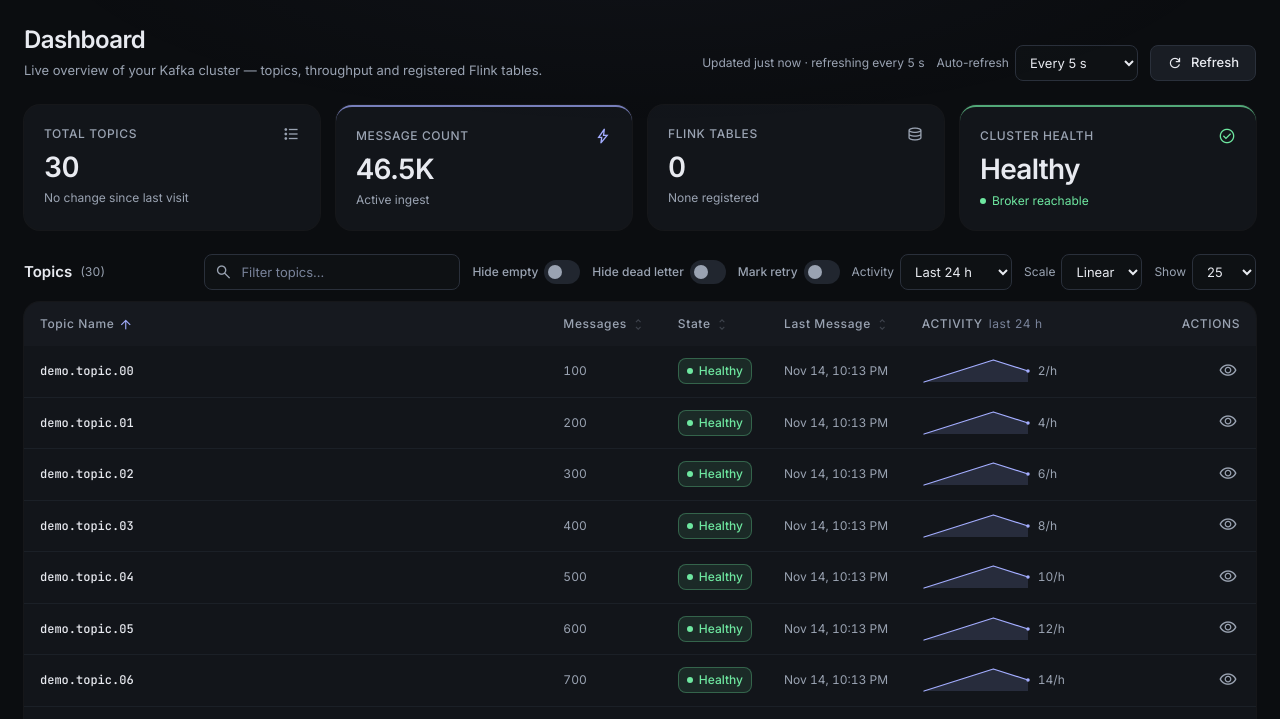
Dashboard retry marker › says so when nothing on the cluster matches, rather than looking broken
Click the switch named "Mark retry".
click(822, 272)  # box [804,260,840,284]
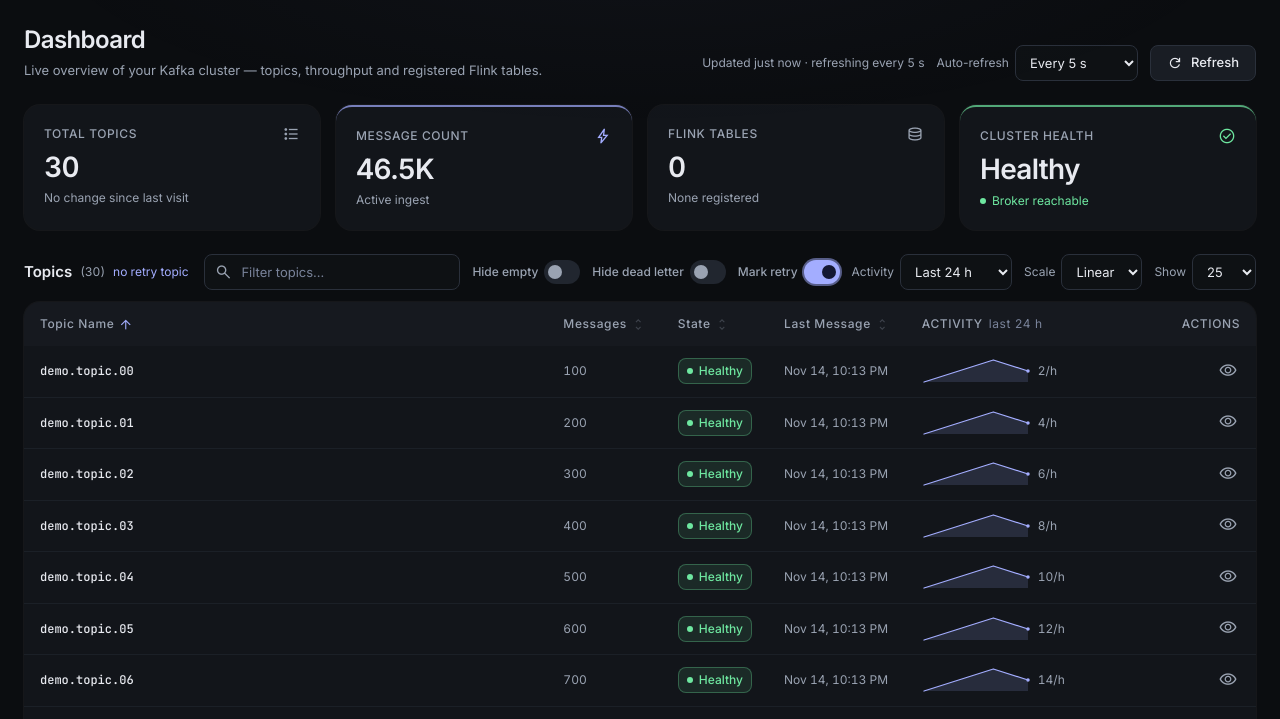
Check: the text "no retry topic" is shown, box [113,263,189,281]
